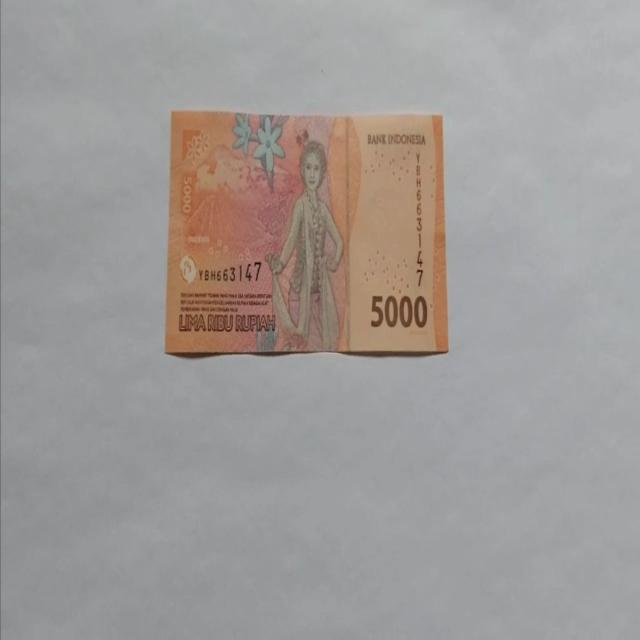lima ribu rupiah: (164, 109, 448, 358), (264, 138, 345, 352)
